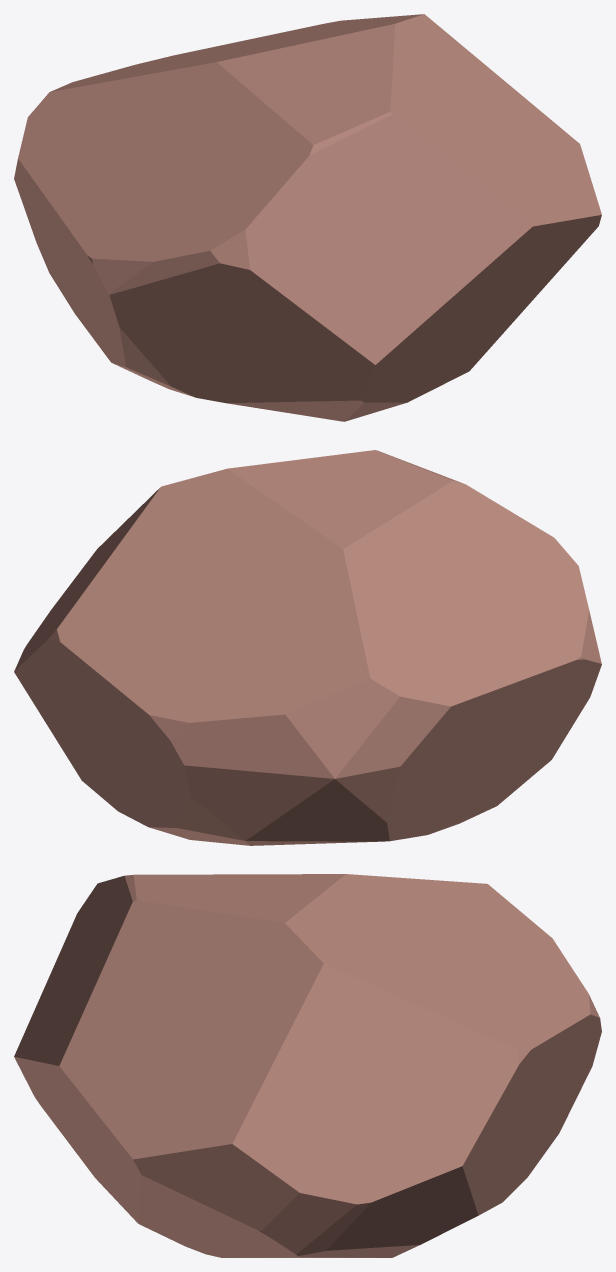
Rendered from Mesa_Rock_Mid_03.fbx.
3 views of the same model, one above another, from view 1: azimuth 30°, elevation 25°; view 2: azimuth 150°, elevation 25°; view 3: azimuth 270°, elevation 25° (orthographic). The views are drawn at different scales.
Visible parts, largest first — view 1: Icosphere.005; view 2: Icosphere.005; view 3: Icosphere.005.
Boxes of the visible parts, x1,y1,x2,y2 form: Icosphere.005: (14,14,601,421); Icosphere.005: (14,450,601,845); Icosphere.005: (14,874,601,1257).
Bounding box in the file's own units: 186 × 118 × 183.
